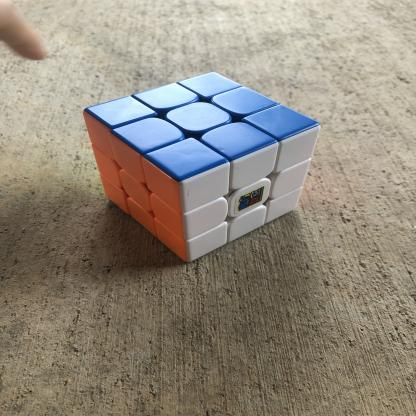SolvedCube: (76, 62, 321, 269)
